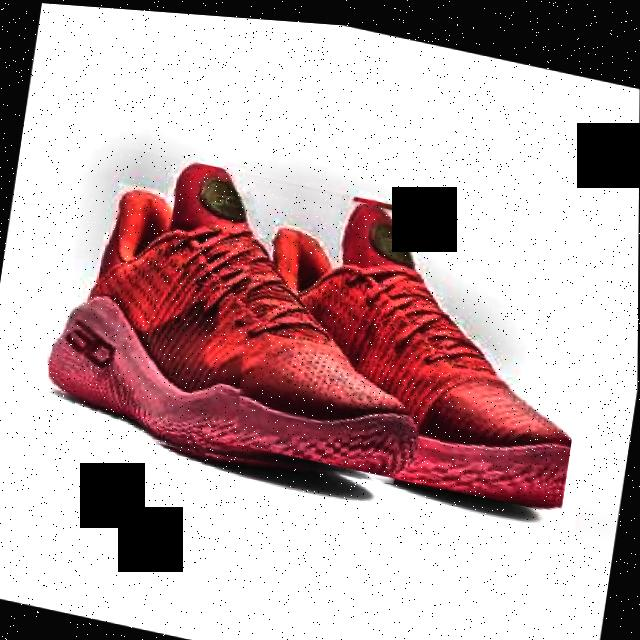shoe: (42, 135, 439, 497), (217, 171, 601, 508)
